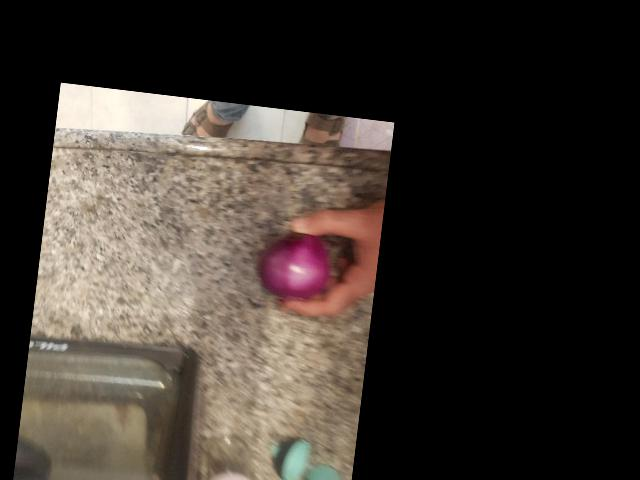onion: (34, 238, 125, 322)
